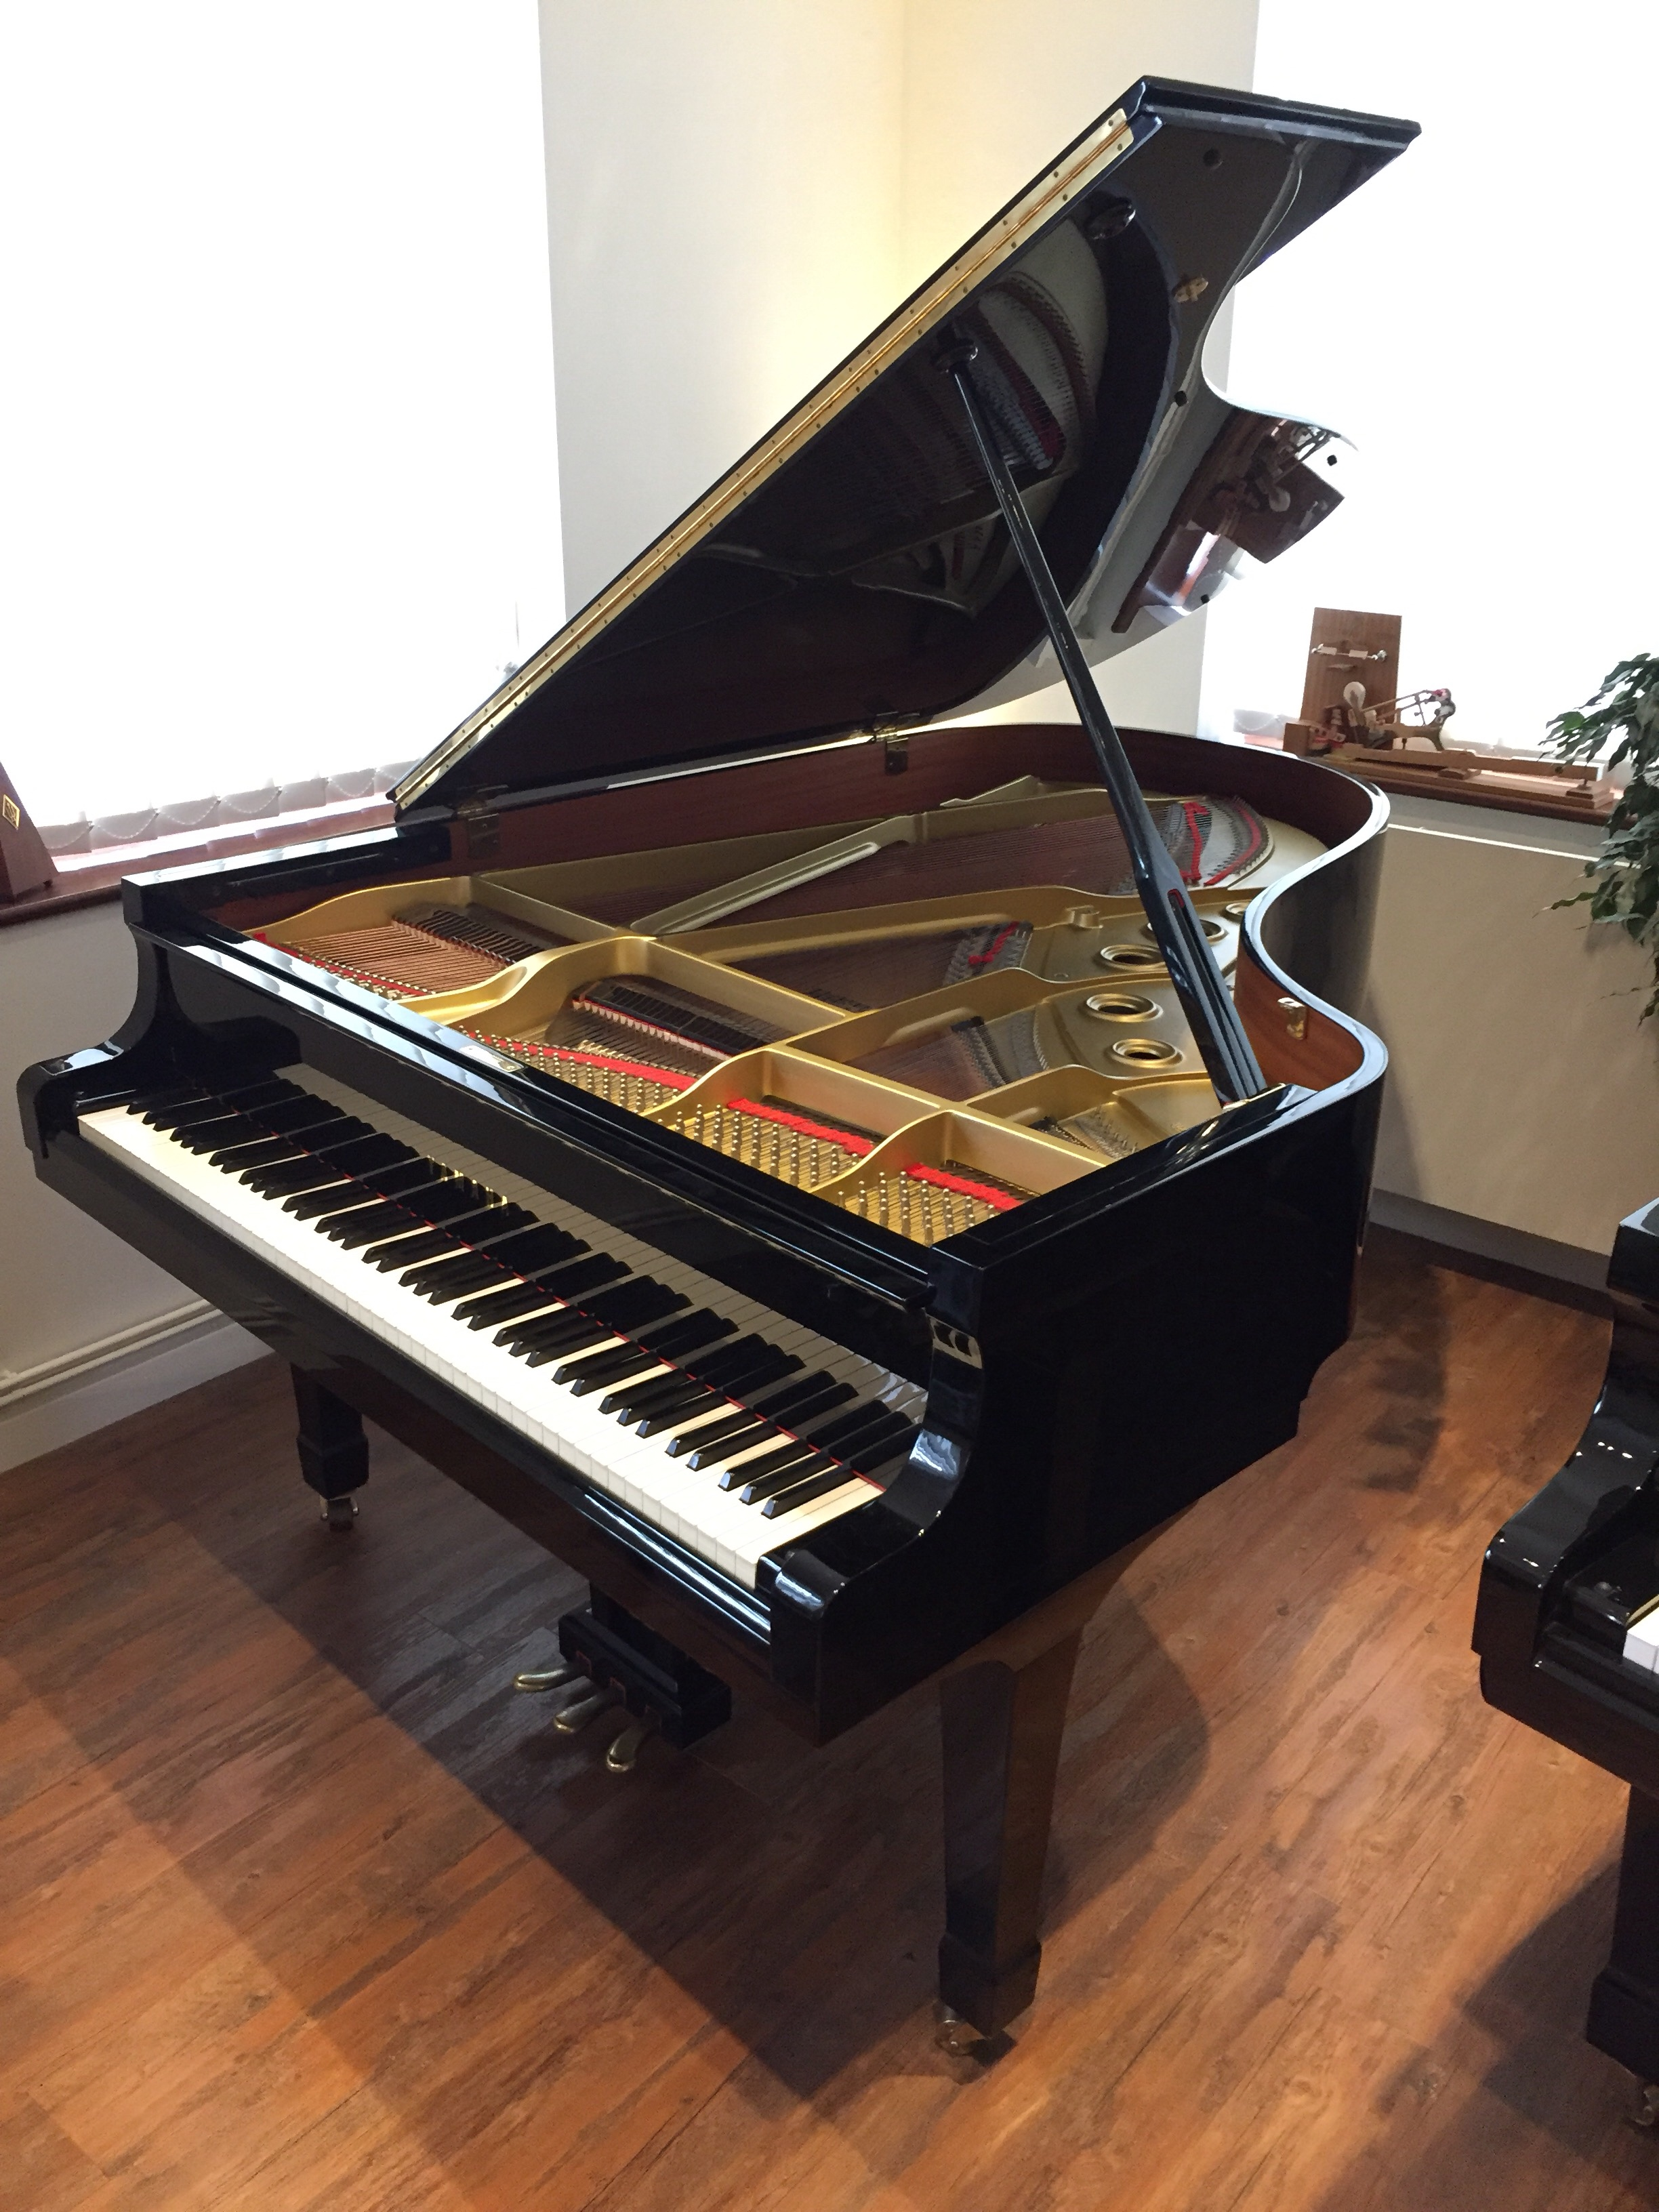GrandPiano: (138, 441, 1410, 1728)
